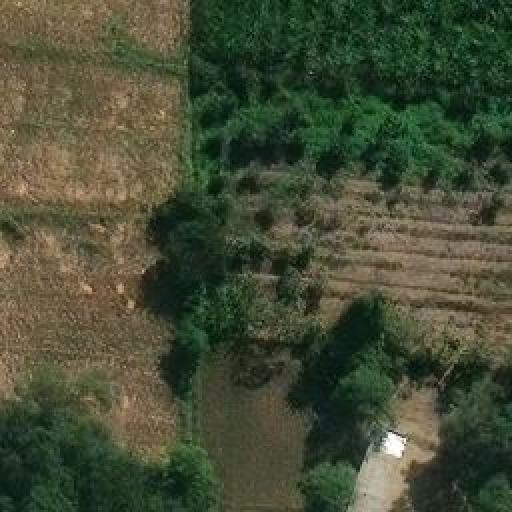manzanas: (345, 427, 444, 510)
